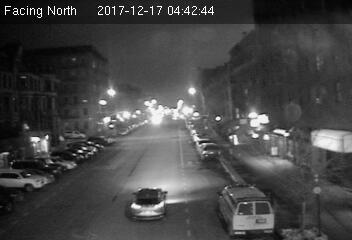car: (128, 186, 172, 222)
police: (216, 183, 275, 235)
